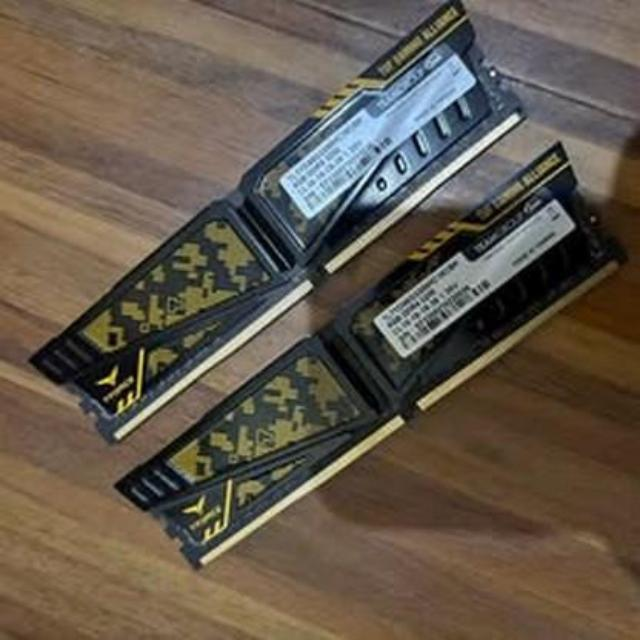RAM: (119, 146, 626, 582), (31, 8, 538, 440)
